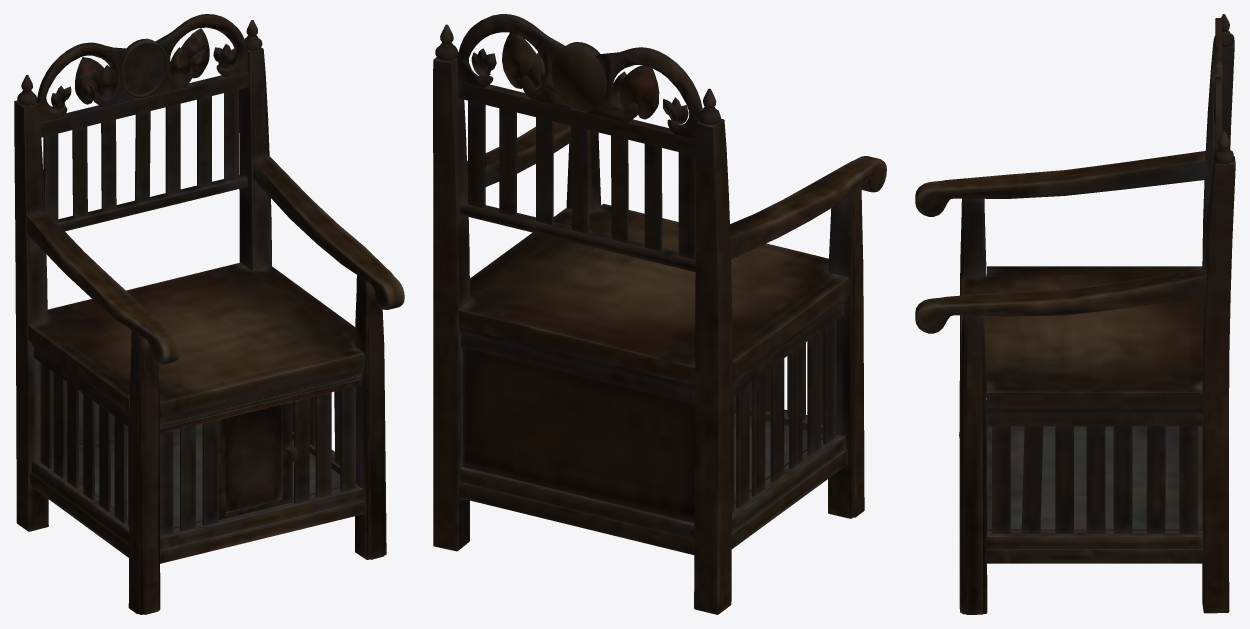
The model's file is chair-gallinera.lite.edb02fc5.glb.
The picture shows the model from 3 angles, left to right: view 1: azimuth 30°, elevation 25°; view 2: azimuth 150°, elevation 25°; view 3: azimuth 270°, elevation 25°; orthographic projection. The views are drawn at different scales.
Visible parts, largest first — view 1: model; view 2: model; view 3: model.
Boxes of the visible parts, left/top/right/bottom form: model: left=14, top=14, right=404, bottom=614; model: left=433, top=14, right=886, bottom=614; model: left=915, top=14, right=1235, bottom=614.
Size of the model in its own units: 0.5803 by 1.03 by 0.6039.
1 material, 1 textured.
